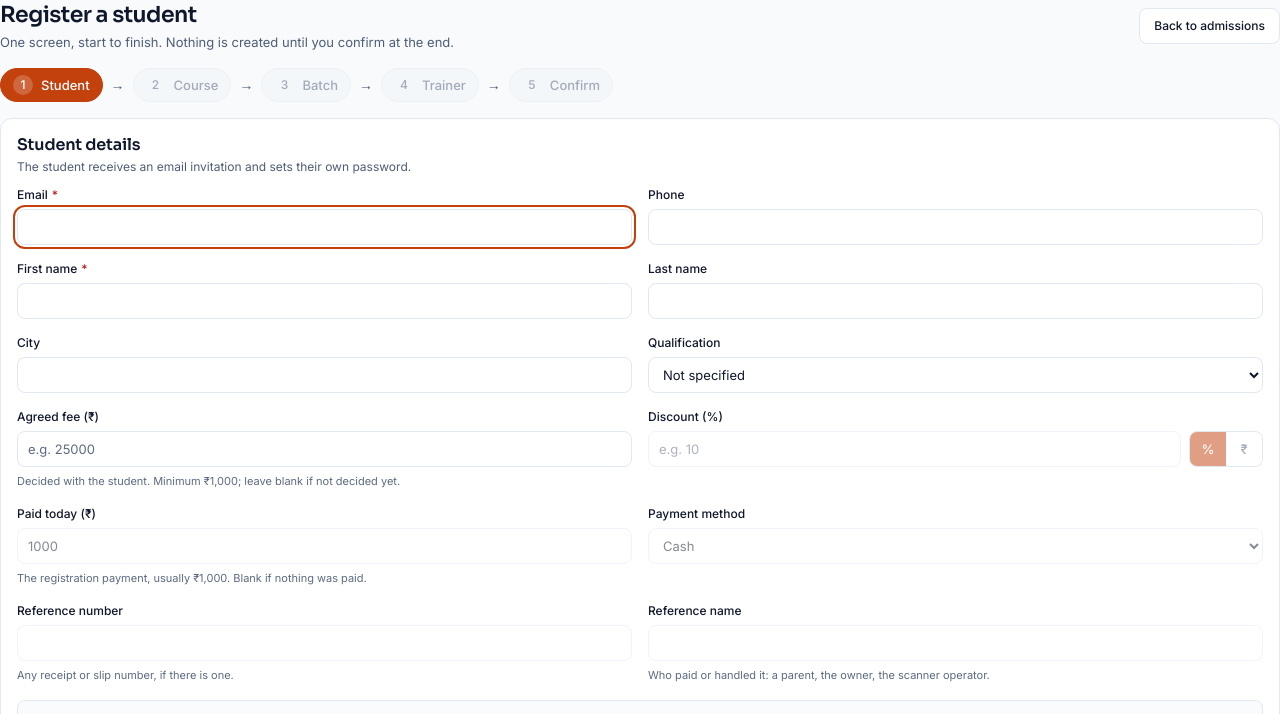
Test: RegistrationWizard — moving through the steps › goes to the trainer step when the chosen batch has none
Type "jane@example.com" into the field labelled "Email" at (324, 227), box 17,209 -> 632,245
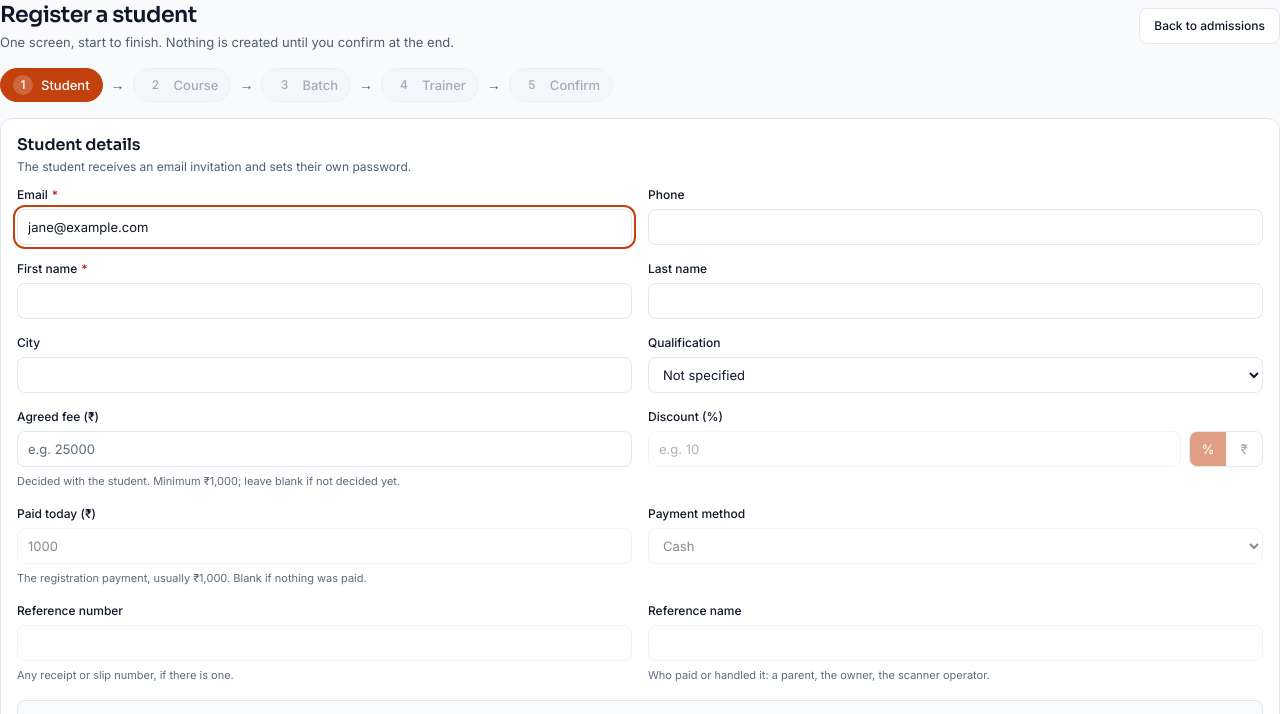
Type "Jane" into the field labelled "First name" at (324, 301), box 17,283 -> 632,319
(page scrolled)
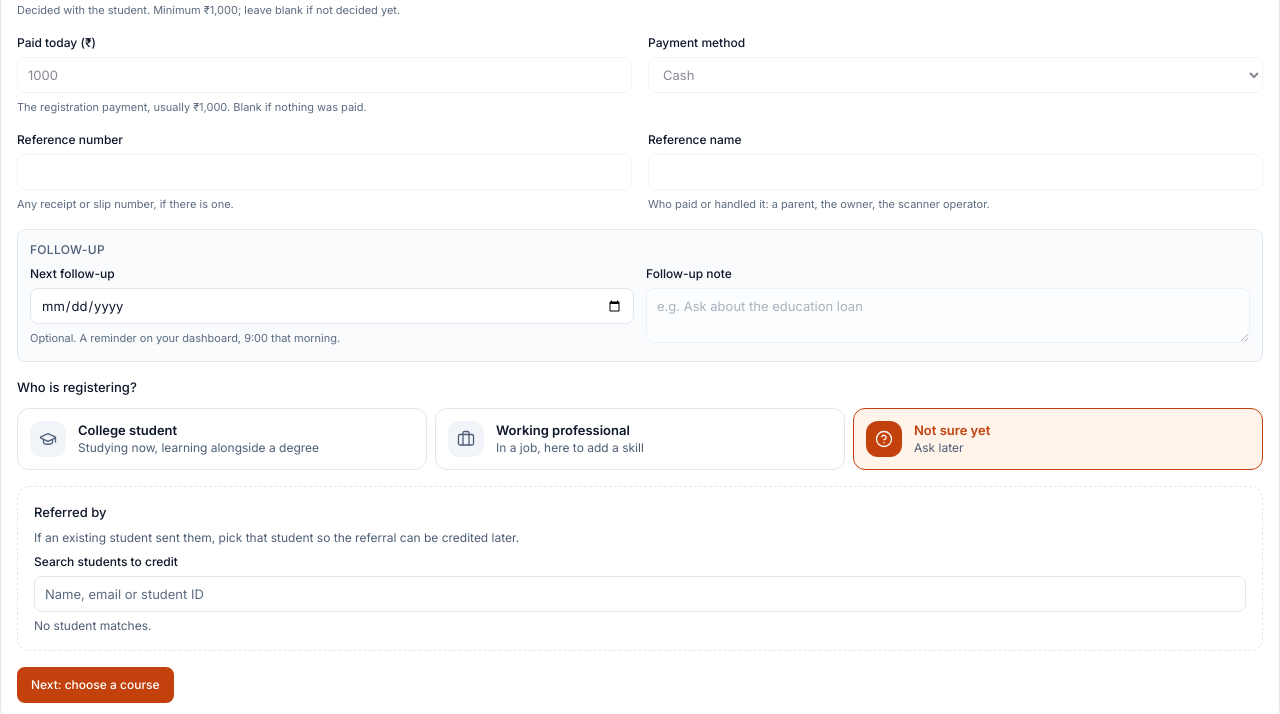
Click the button "Next: choose a course" at (95, 685), box 17,667 -> 174,703
(page scrolled)
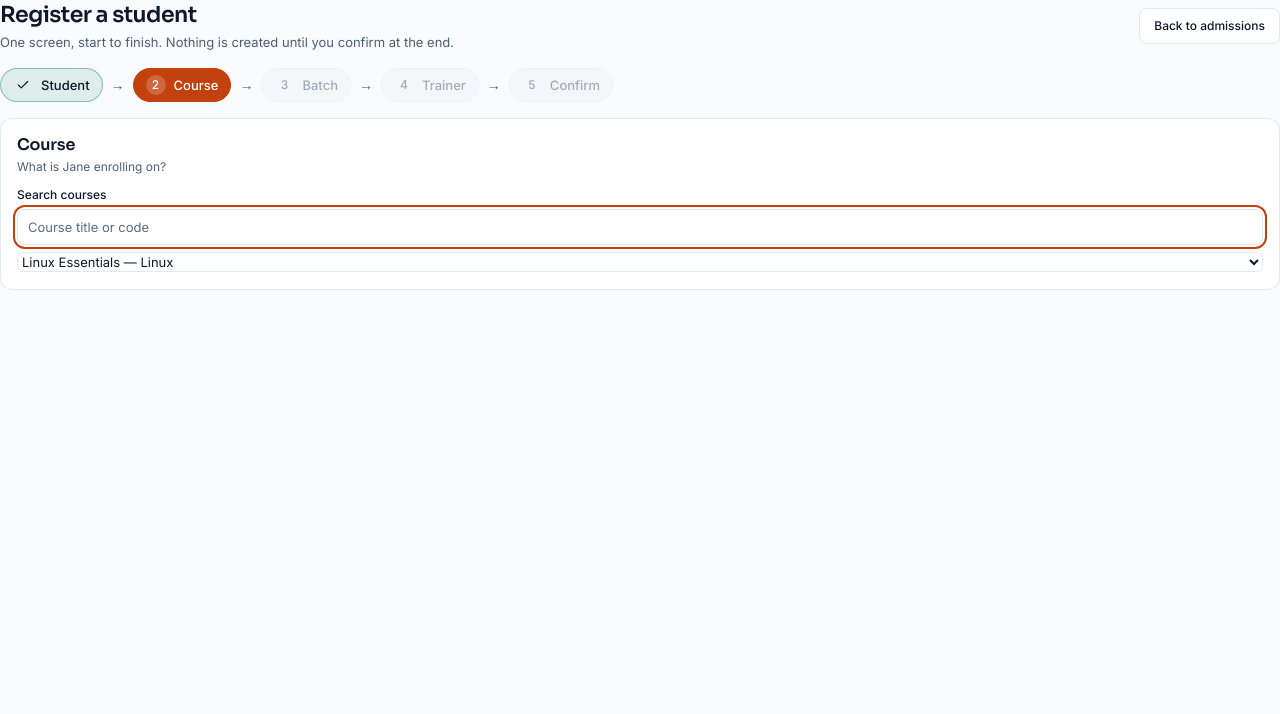
Select "Linux Essentials — Linux" in the dropdown named "Search courses results" at (640, 262), box 17,252 -> 1263,272
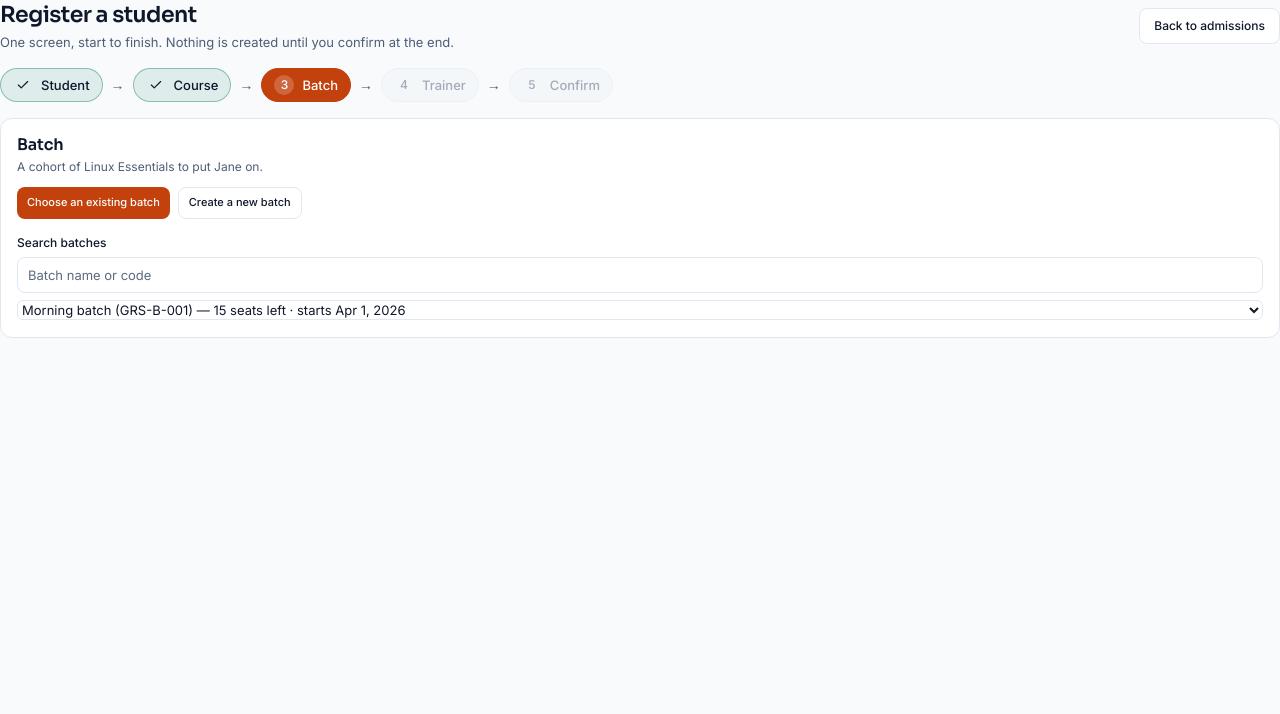
Now the dropdown labelled "Search batches" is shown, box 17,257 -> 1263,293
Select "Morning batch (GRS-B-001) — 15 seats left · starts Apr 1, 2026" in the dropdown named "Search batches results" at (640, 310), box 17,300 -> 1263,320
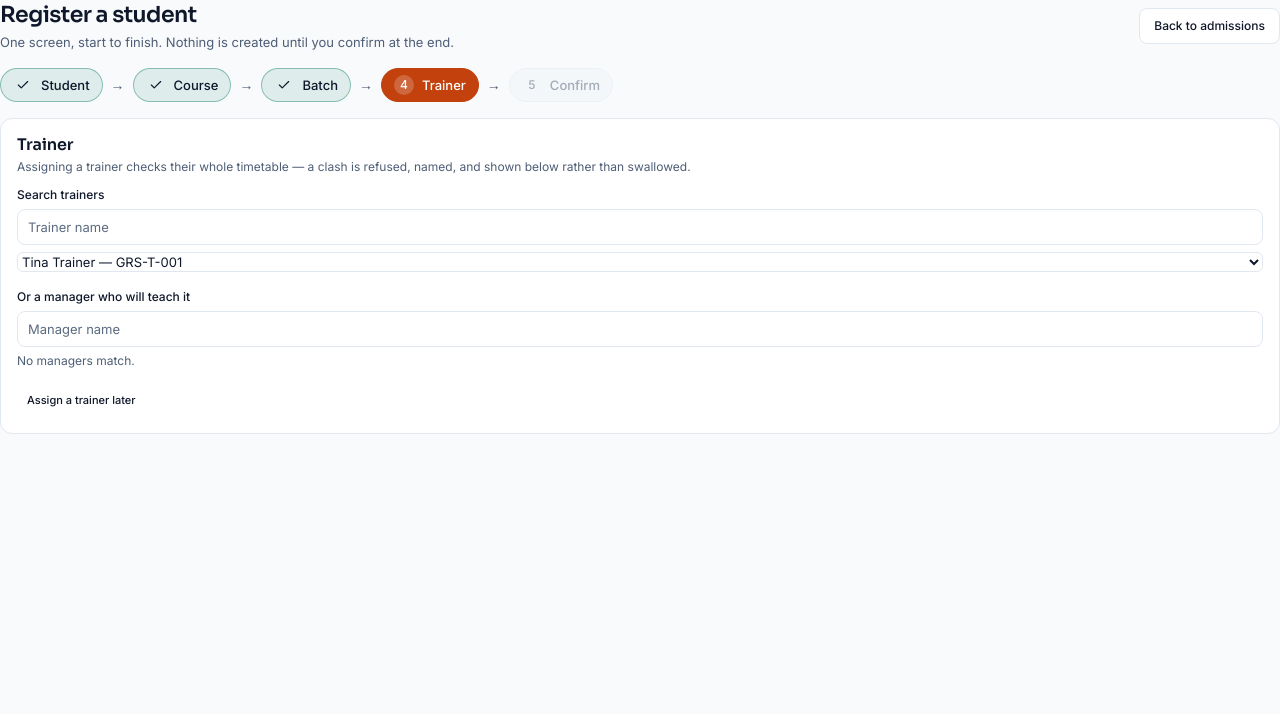
Now the heading "Trainer" is shown, box 17,134 -> 73,155
